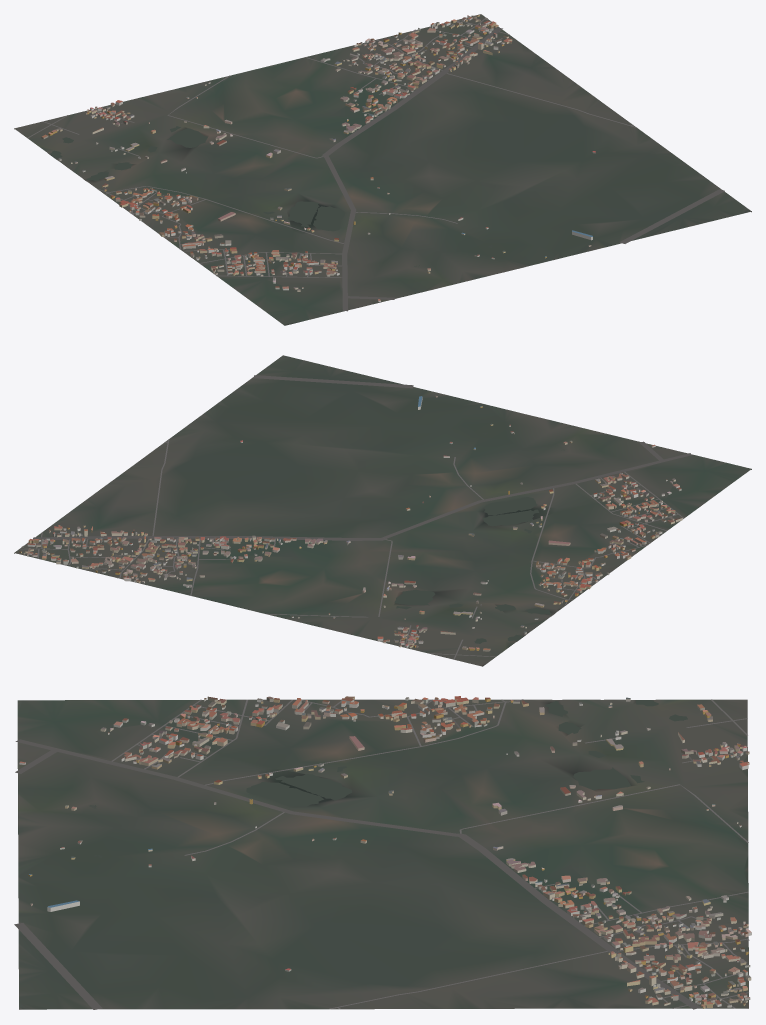
3 renders of one model, top to bottom at view 1: azimuth 30°, elevation 25°; view 2: azimuth 150°, elevation 25°; view 3: azimuth 270°, elevation 25°, orthographic. The views are drawn at different scales.
Visible parts, largest first — view 1: ground, buildings, roads, water; view 2: ground, buildings, roads, water; view 3: ground, buildings, roads, water.
Boxes of the visible parts, bbox=[...] form: ground: bbox=[14, 14, 751, 325]; buildings: bbox=[41, 15, 595, 301]; roads: bbox=[27, 18, 724, 311]; water: bbox=[50, 126, 492, 266]; ground: bbox=[14, 355, 751, 666]; buildings: bbox=[19, 395, 682, 651]; roads: bbox=[19, 375, 691, 659]; water: bbox=[394, 433, 564, 643]; ground: bbox=[17, 699, 748, 1009]; buildings: bbox=[19, 696, 751, 1008]; roads: bbox=[14, 699, 749, 1009]; water: bbox=[89, 700, 687, 857].
Size of the model in its own units: 1411 by 19.98 by 1417.
